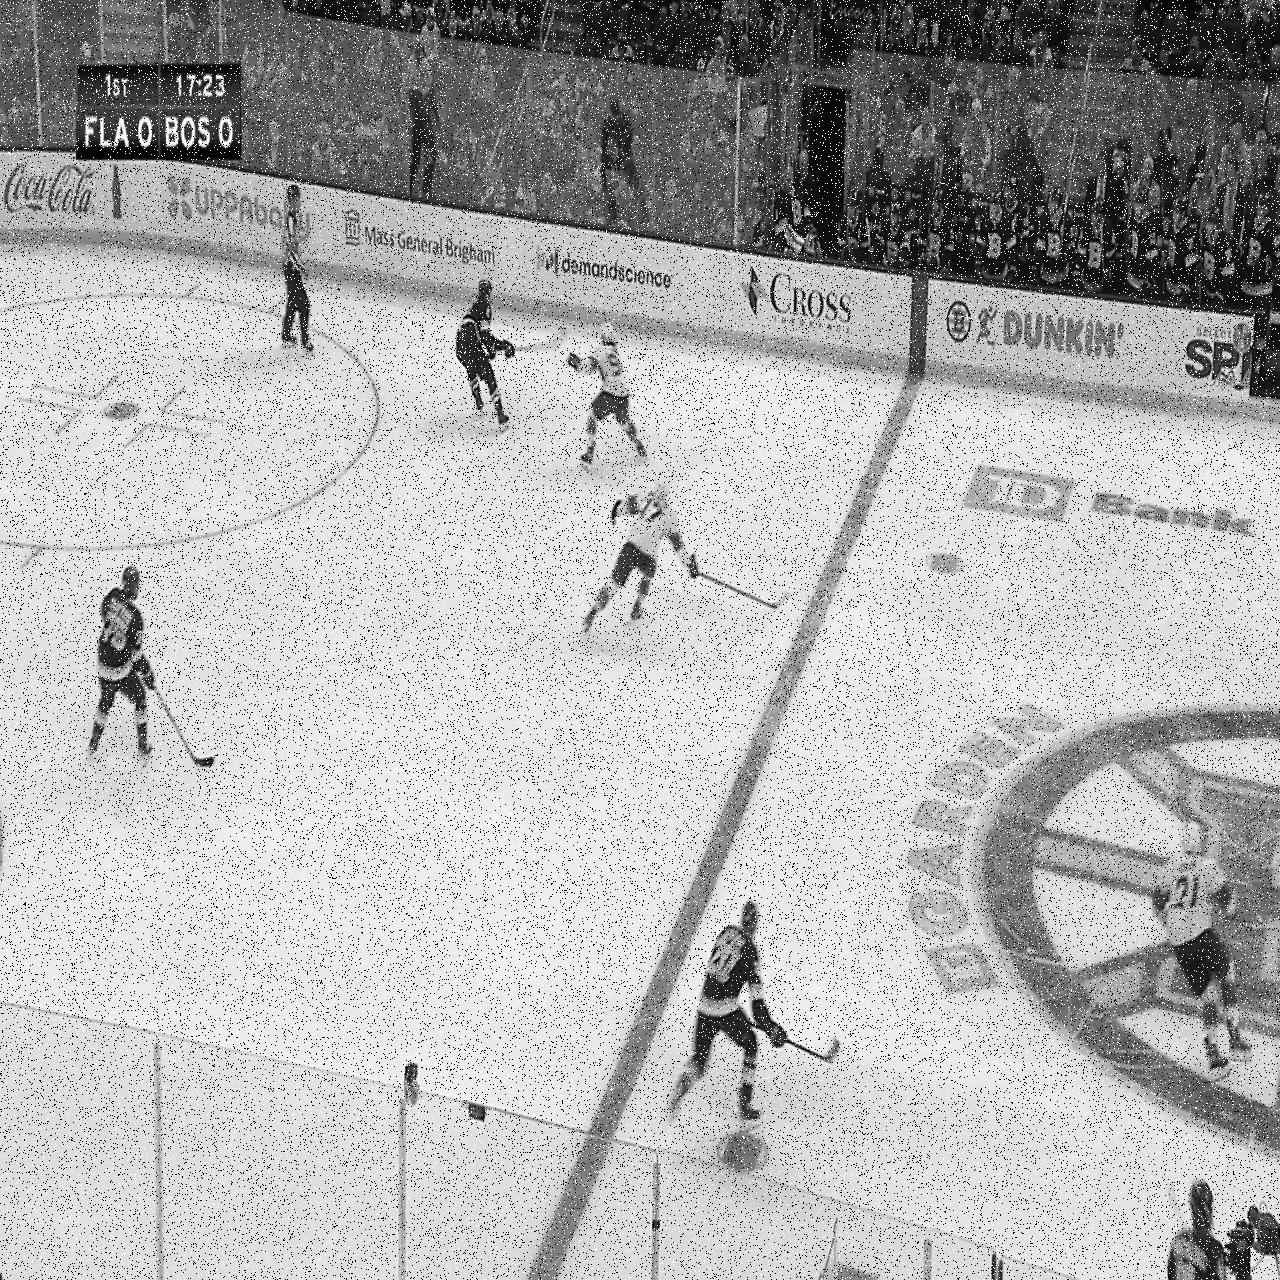Ad: (967, 457, 1261, 552), (975, 297, 1131, 382), (165, 168, 320, 250), (342, 204, 498, 285), (533, 234, 678, 307), (740, 258, 856, 343), (1179, 315, 1251, 388)
